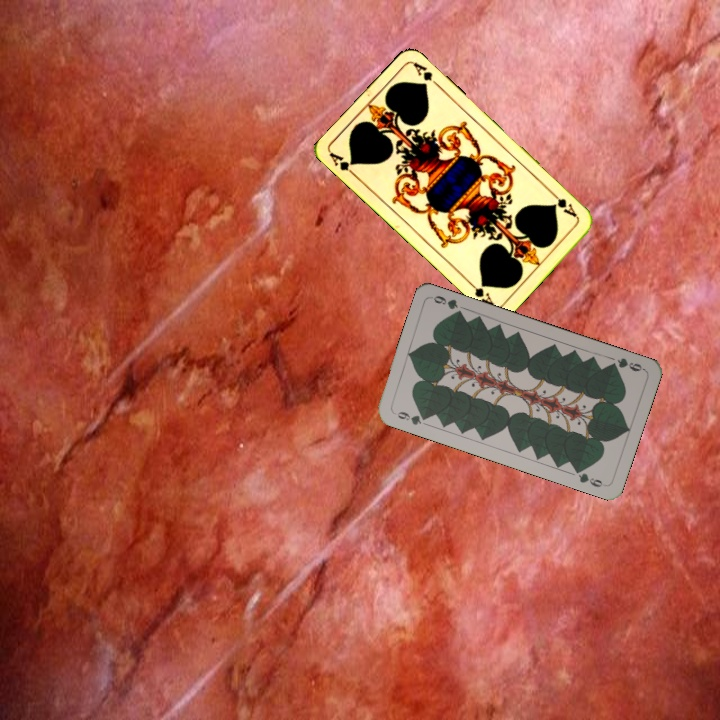G9: (390, 407, 431, 428), (605, 354, 647, 374)
GA: (326, 149, 360, 180), (547, 189, 580, 220)
